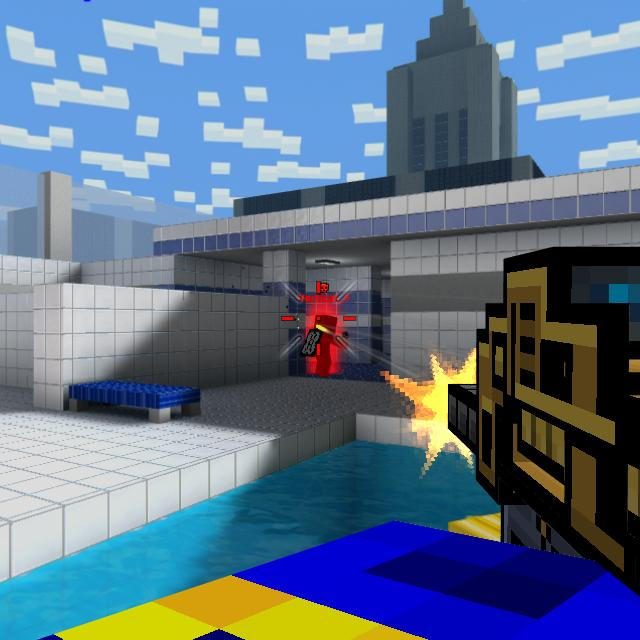Enemy: (307, 314, 346, 377)
